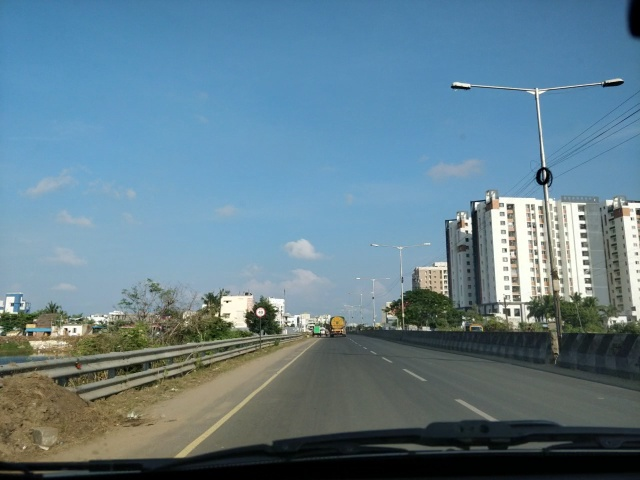auto: (467, 324, 483, 331)
truck: (332, 317, 346, 336), (314, 324, 325, 335)
